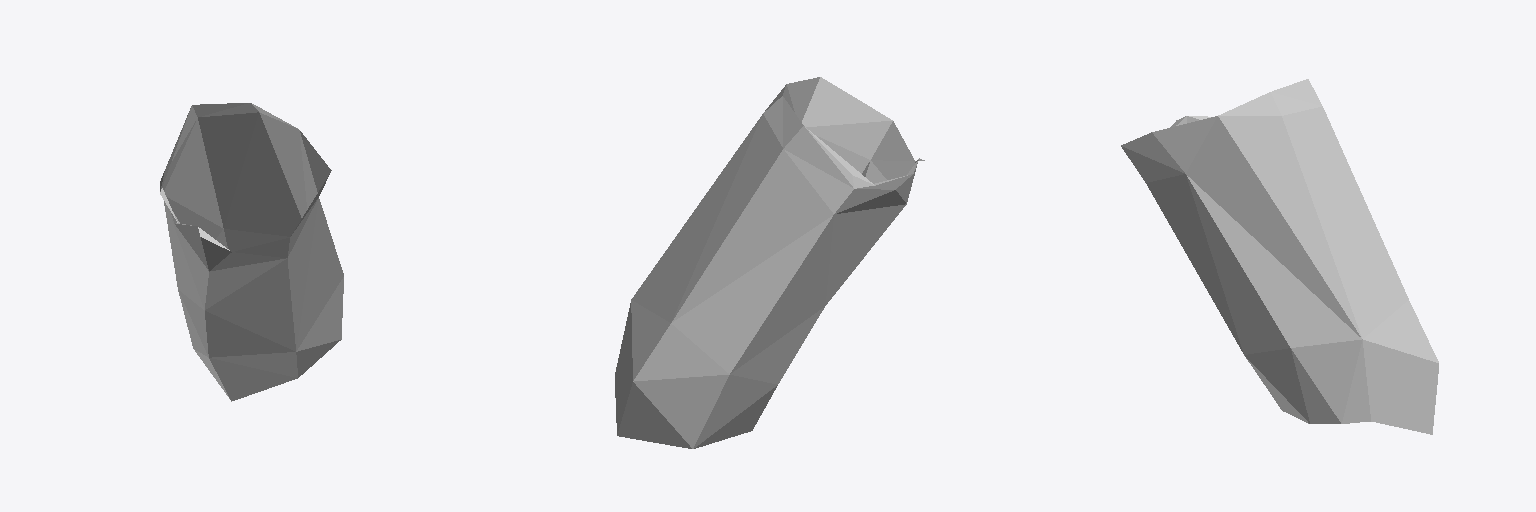
The model's file is pDerEntre.obj.
3 renders of one model, left to right at view 1: azimuth 30°, elevation 25°; view 2: azimuth 150°, elevation 25°; view 3: azimuth 270°, elevation 25°, orthographic.
Parts seen in each view (by area): view 1: Entrenador.003_trainer_body; view 2: Entrenador.003_trainer_body; view 3: Entrenador.003_trainer_body.
Boxes of the visible parts, box(x1,y1,x2,y2) form: Entrenador.003_trainer_body: box(160, 103, 343, 401); Entrenador.003_trainer_body: box(615, 77, 924, 448); Entrenador.003_trainer_body: box(1121, 79, 1438, 434).
Bounding box in the file's own units: 7.53 × 10.25 × 9.3.